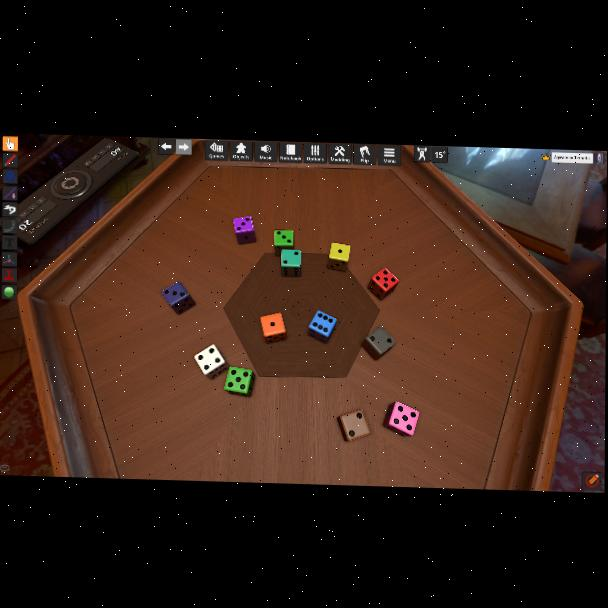d6: (384, 401, 420, 437), (361, 325, 394, 362), (336, 408, 370, 442), (194, 345, 227, 380), (162, 281, 195, 316), (368, 268, 398, 301), (224, 366, 254, 397), (309, 310, 336, 344), (259, 311, 286, 343), (233, 215, 256, 246), (328, 242, 350, 272), (273, 230, 293, 257), (280, 250, 300, 277)
